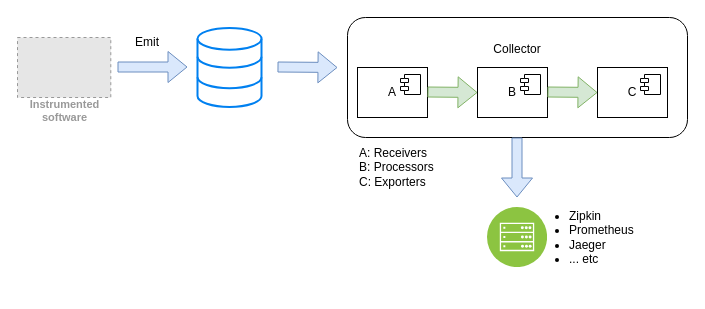
Image size: 705x309. Some labels were removed from this diagram. Grey dashed boxes stand in for pictures. The centre of each missing label's shape, as x and y in pixels:
"Backend" belongs at [517,237].
"Telemetry data: Traces Metrics Logs" belongs at [229,67].
